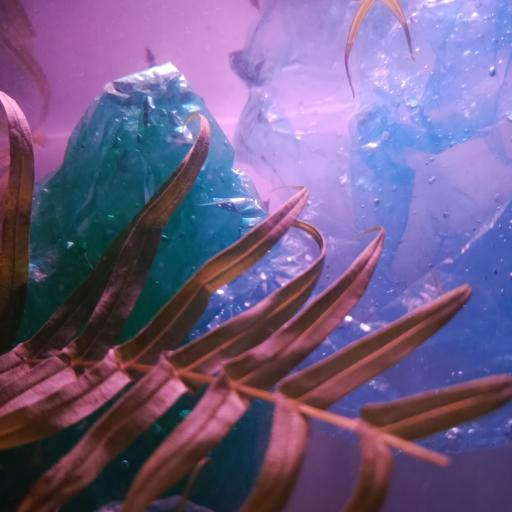plastic_bag: (200, 0, 512, 451), (0, 66, 284, 512)
